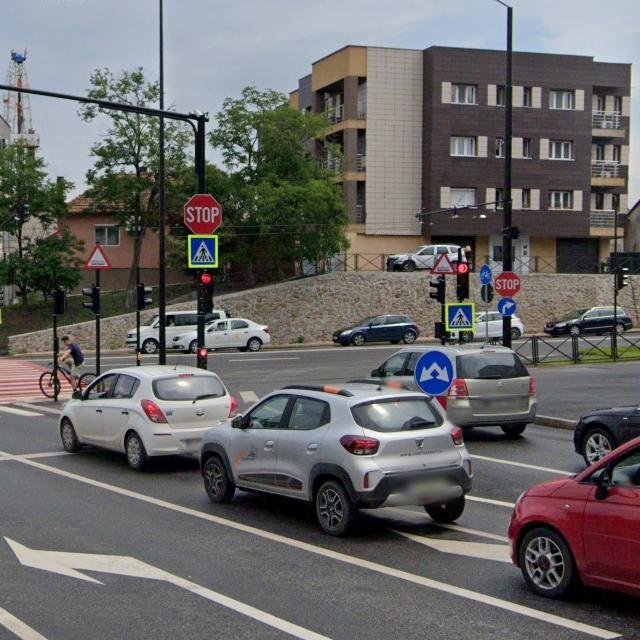info_crosswalk: (187, 234, 220, 270), (446, 302, 476, 331)
prio_stop: (185, 194, 222, 235), (494, 271, 522, 297)
